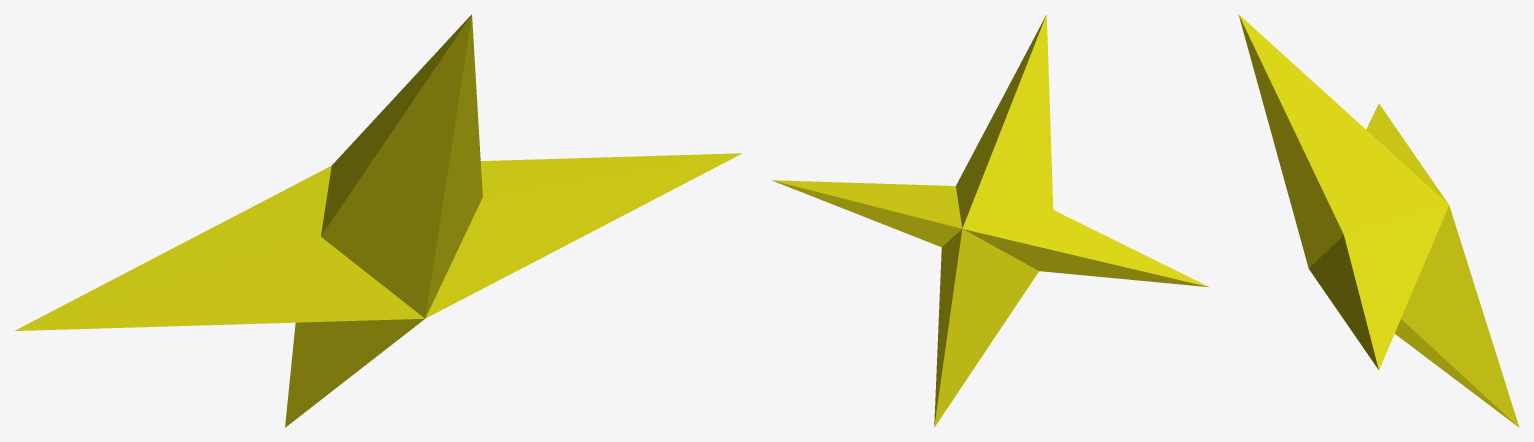
File: itm_model1_unblessed_symbol.obj
3 views of the same model, side by side, from view 1: azimuth 30°, elevation 25°; view 2: azimuth 150°, elevation 25°; view 3: azimuth 270°, elevation 25° (orthographic). The views are drawn at different scales.
Bounding box in the file's own units: 0.1406 × 0.1016 × 0.0625.
